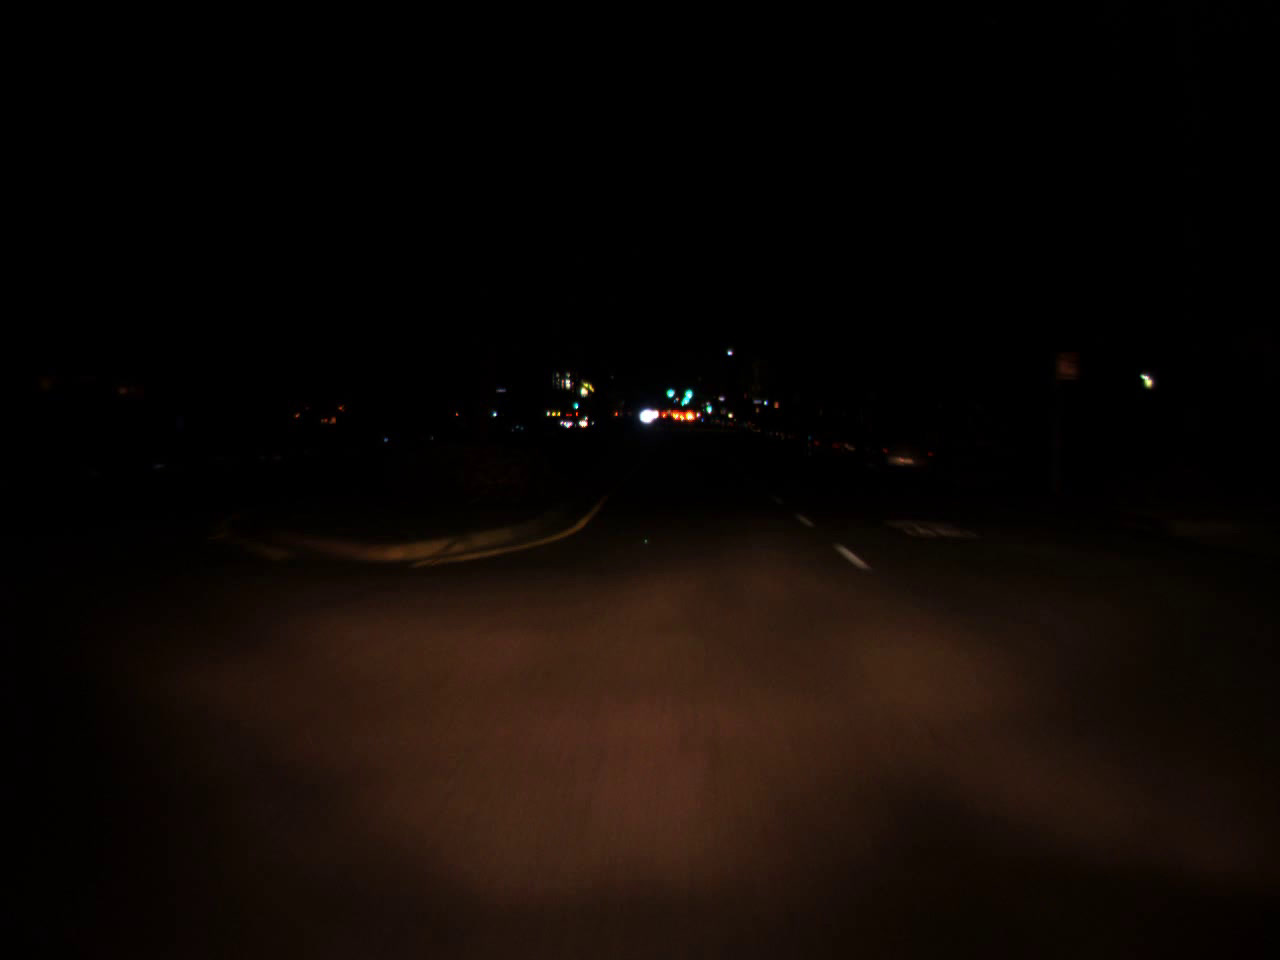go: (680, 377, 694, 401), (665, 379, 675, 400), (703, 401, 711, 413), (572, 398, 579, 410)
